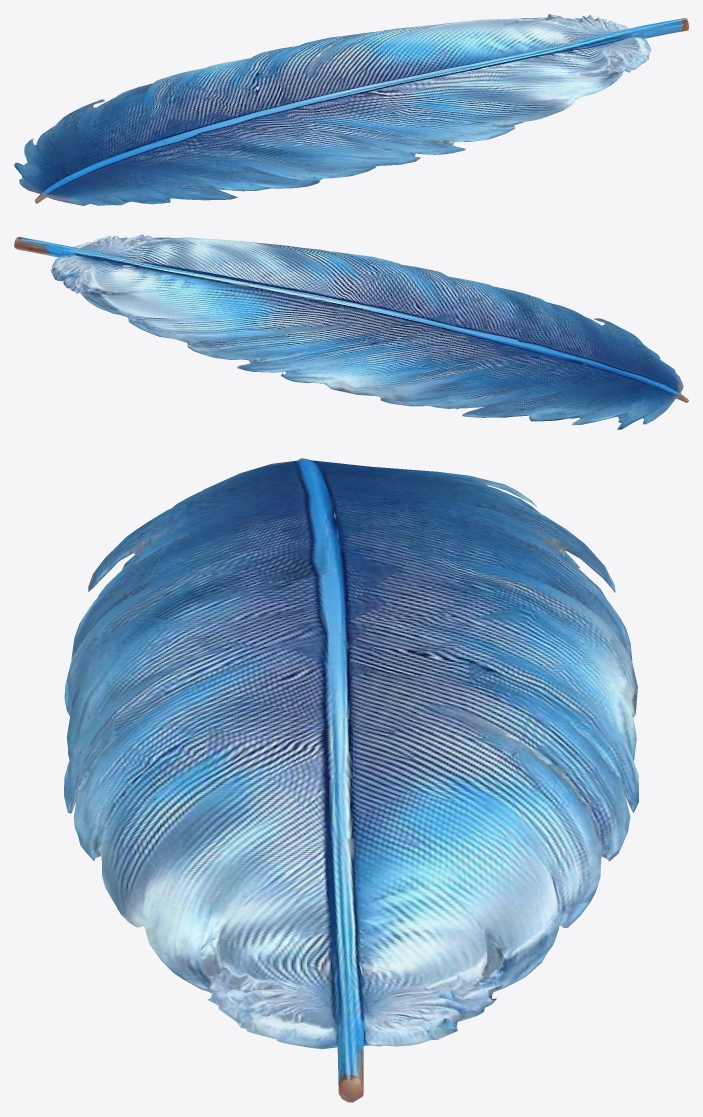
The model's file is prop-feather.glb.
The picture shows the model from 3 angles, top to bottom: view 1: azimuth 30°, elevation 25°; view 2: azimuth 150°, elevation 25°; view 3: azimuth 270°, elevation 25°; orthographic projection. The views are drawn at different scales.
Size of the model in its own units: 1.91 by 0.0904 by 0.7217.
1 material, 1 textured.
